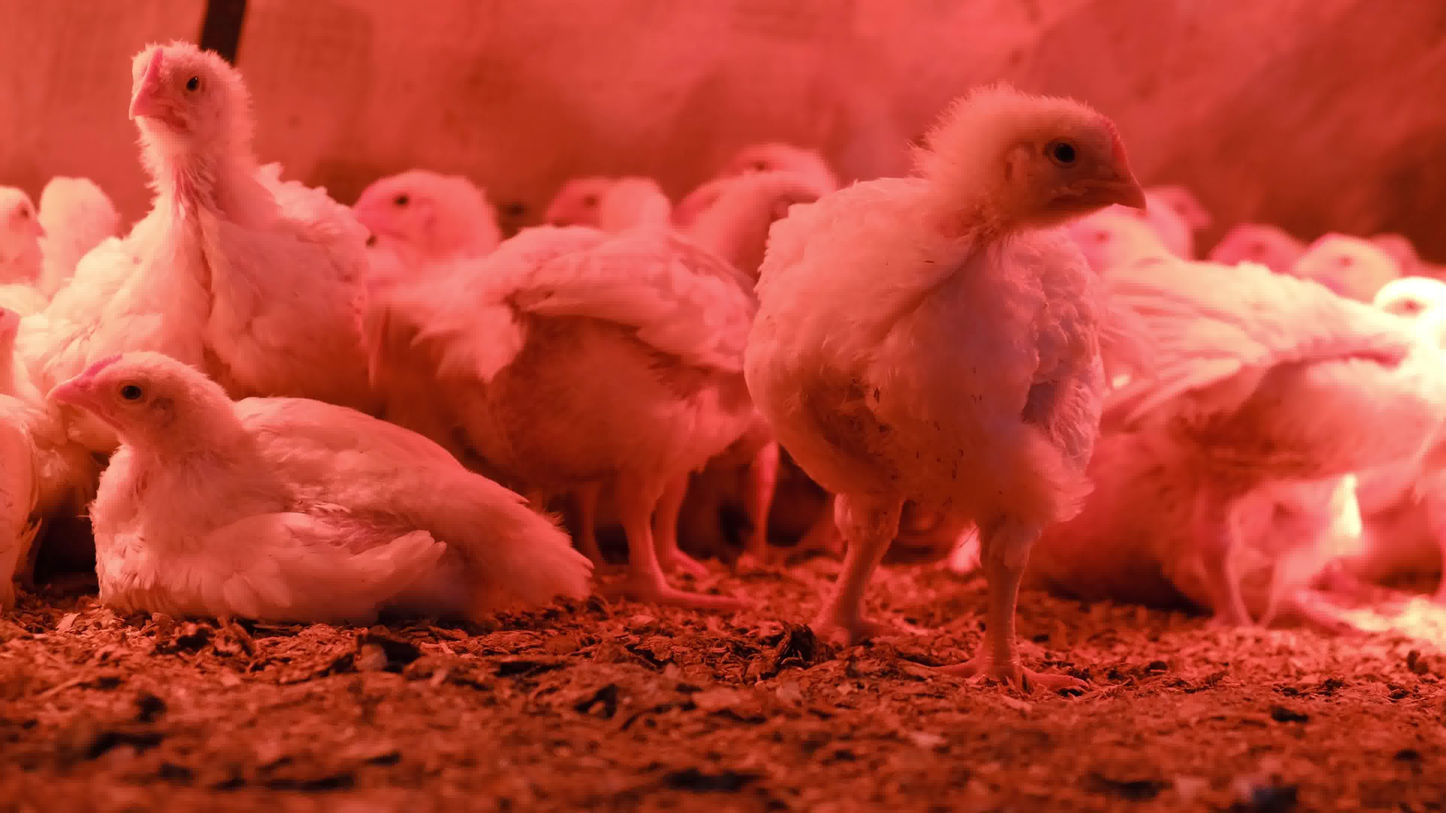AbNormal: (46, 350, 593, 613), (1120, 475, 1375, 623)
Normal: (744, 85, 1155, 700), (441, 174, 823, 610), (1072, 273, 1443, 631), (49, 38, 371, 377), (344, 170, 501, 349), (1217, 221, 1399, 292), (39, 168, 123, 286), (1072, 190, 1192, 270), (537, 179, 674, 237), (0, 179, 49, 309)
